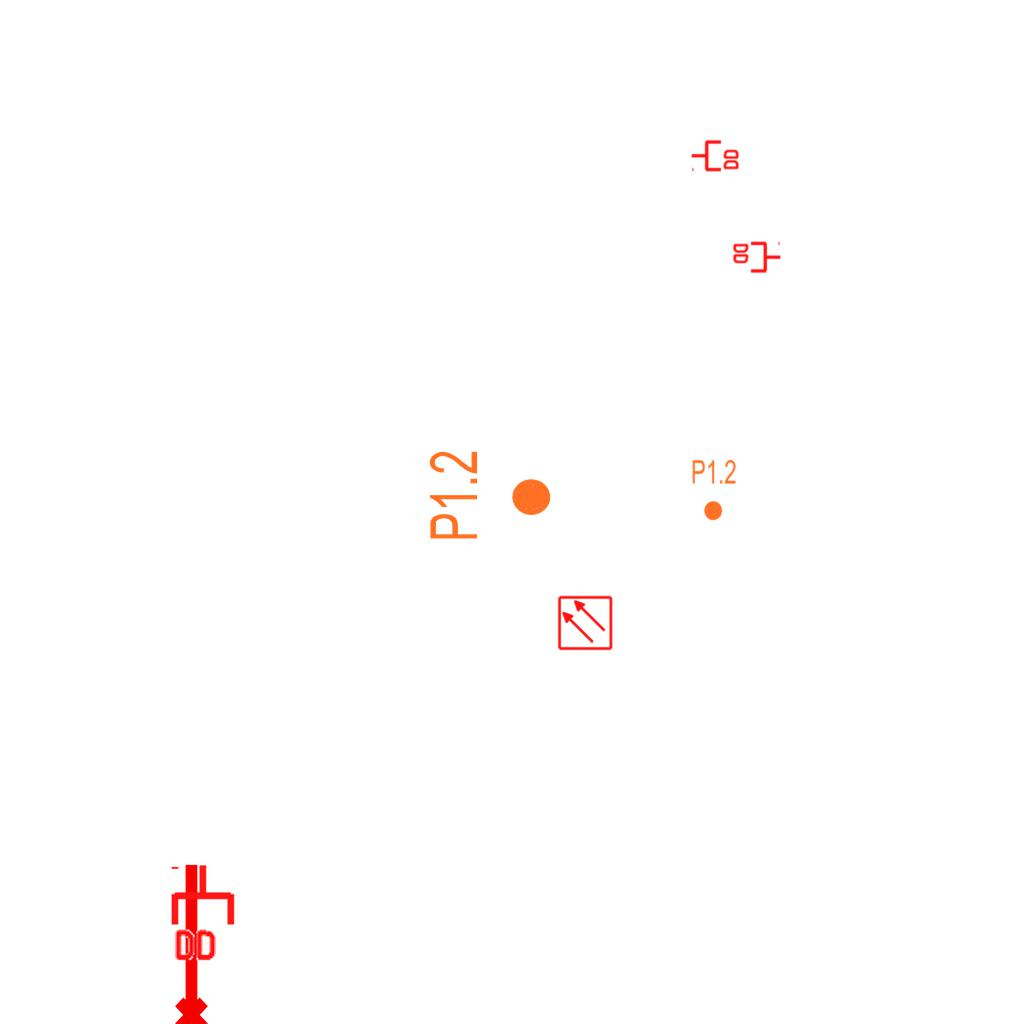ASR_Ansaugoeffnung: (166, 859, 212, 1024)
Datenanschluss_zweifach: (170, 862, 239, 965), (731, 241, 782, 275), (690, 138, 741, 172)
Downlight_LED_Einbauleuchten_Flur: (426, 449, 554, 542), (691, 458, 737, 522)
RMO_Rauchmelder_optischer: (557, 595, 613, 651)
